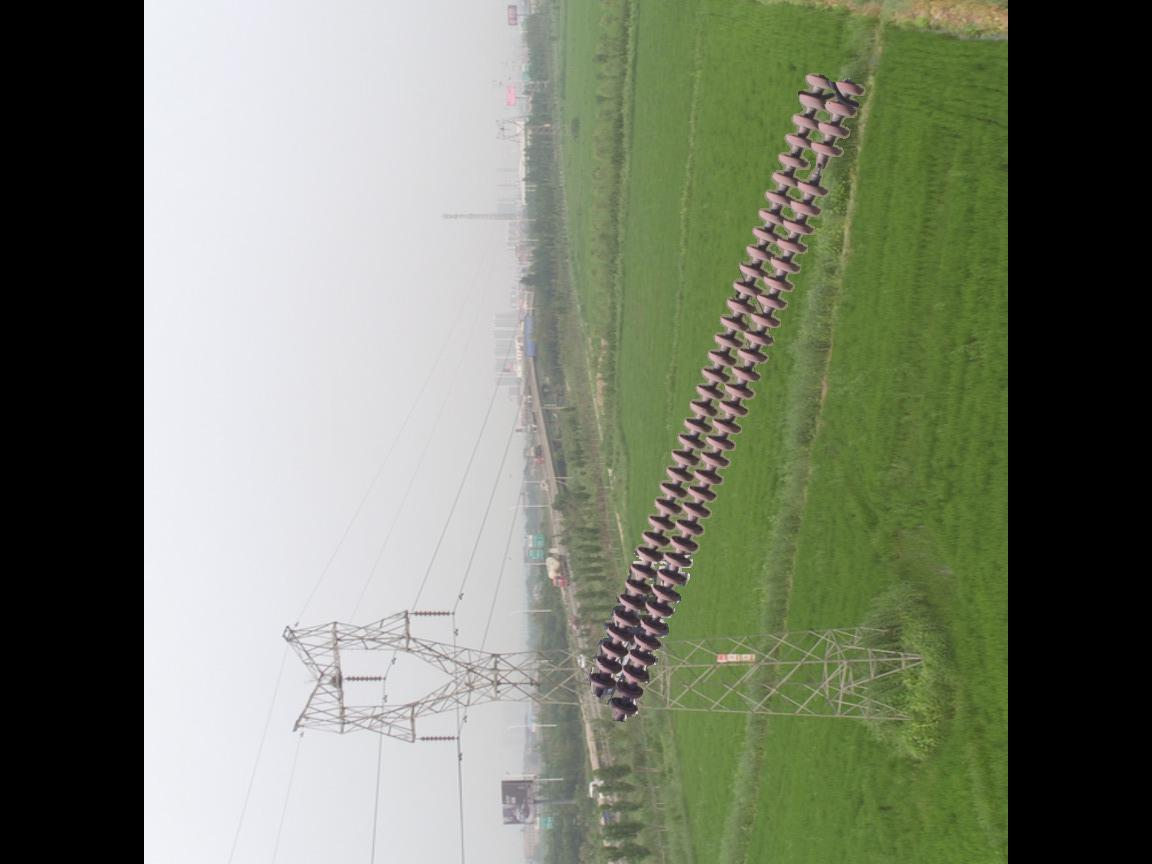insulator: (584, 63, 870, 723), (411, 606, 453, 622), (342, 670, 387, 684), (416, 731, 461, 744)
insulator_stringdrop: (795, 139, 847, 201)
